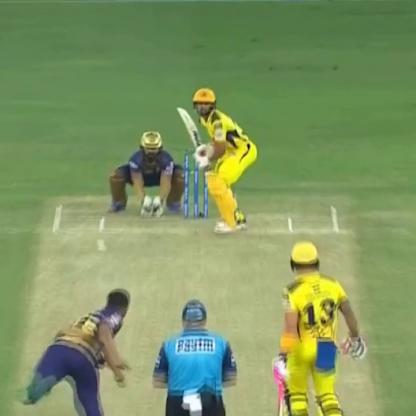ball: (95, 237, 105, 246), (99, 243, 107, 254)
bat: (174, 105, 208, 158)
pitch: (17, 205, 379, 415)
